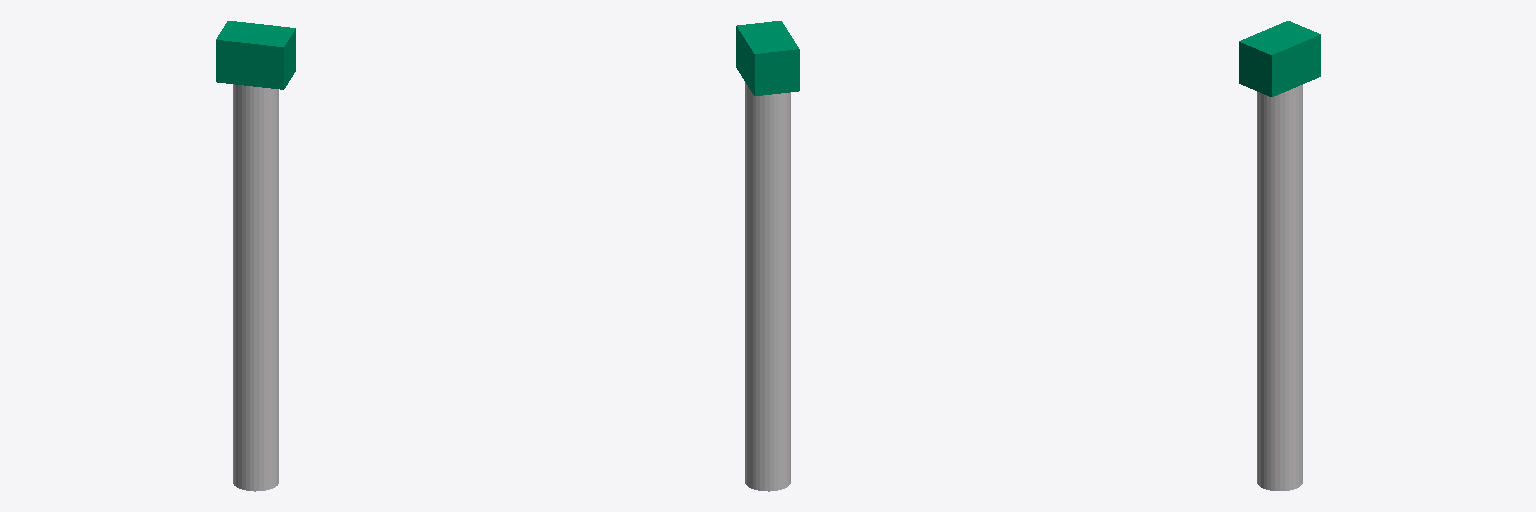
robot.urdf — camera_right:
<?xml version="1.0" encoding="utf-8"?>
<robot
  name="camera_right">

  <link name="base_footprint"/>

  <joint name="base_joint" type="fixed">
    <parent link="base_footprint"/>
    <child link="body" />
    <origin xyz="0 0 0.010" rpy="0 0 0"/>
  </joint>

  <link name="body">
    <inertial>
      <origin
        xyz="0 0 0.5"
        rpy="0 0 0" />
      <mass
        value="1" />
      <inertia
        ixx="0.003958333"
        ixy="0"
        ixz="0"
        iyy="0.003958333"
        iyz="0"
        izz="0.02" />
    </inertial>
    
    <visual>
      <origin
          xyz="0 0 0.5"
          rpy="0 0 0" />
      <geometry>
        <cylinder length="1" radius="0.05"/>
      </geometry>
      <material
        name="">
        <color
          rgba="0.84706 0.83922 0.83922 1" />
      </material>
    </visual>

    <collision>
      <origin
        xyz="0 0 0.5"
        rpy="0 0 0" />
      <geometry>
        <cylinder length="1" radius="0.05"/>
      </geometry>
    </collision>
    </link>


    <joint name="camera_joint" type="fixed">
        <origin xyz="0 0 1" rpy="0 0 -2.355"/>
        <parent link="body"/>
        <child link="camera_link"/>
    </joint>


    <link name="camera_link">
        <visual>
            <origin xyz="0 0 0" rpy="0 0 0"/>
            <geometry>
                <box size="0.1 0.15 0.1" />
            </geometry>
        </visual>

        <collision>
            <origin xyz="0.003 0.065 0.007" rpy="0 0 0"/>
            <geometry>
                <box size="0.012 0.132 0.020"/>
            </geometry>
        </collision>    
    </link>




    <gazebo reference="body">
        <mu1>1</mu1>
        <mu2>1</mu2>
        <fdir1>1 0 0</fdir1>
        <kp>1e+13</kp>
        <kd>1</kd>
        <maxVel>0</maxVel>
        <minDepth>0.0000001</minDepth>
        <gravity>1</gravity>
        <material>Gazebo/Grey</material>
    </gazebo>

    <gazebo reference="camera_link">
        <sensor type="camera" name="camera2">
        <update_rate>30.0</update_rate>
            <camera name="head">
                <horizontal_fov>1.3962634</horizontal_fov>
                <image>
                <width>1280</width>
                <height>720</height>
                <format>R8G8B8</format>
                </image>
            </camera>        
            <plugin name="camera_controller" filename="libgazebo_ros_camera.so">
                <alwaysOn>true</alwaysOn>
                <updateRate>0.0</updateRate>
                <cameraName>camera_right</cameraName>
                <imageTopicName>image_raw</imageTopicName>
                <cameraInfoTopicName>camera_info</cameraInfoTopicName>
                <frameName>camera_link</frameName>
                <hackBaseline>0.07</hackBaseline>
                <distortionK1>0.0</distortionK1>
                <distortionK2>0.0</distortionK2>
                <distortionK3>0.0</distortionK3>
                <distortionT1>0.0</distortionT1>
                <distortionT2>0.0</distortionT2>
            </plugin>
        </sensor>
    </gazebo>




</robot>

--- What the picture shows (computed from the rendered views, not written in the file) ---
Views: 3 orthographic renders of the robot side by side, from view 1: azimuth 30°, elevation 25°; view 2: azimuth 150°, elevation 25°; view 3: azimuth 270°, elevation 25°.
Robot: camera_right — 3 links, 2 joints (2 fixed); root link base_footprint; default pose: all joints at 0.
Links seen in each view (by area): view 1: body, camera_link; view 2: body, camera_link; view 3: body, camera_link.
Boxes of the visible links, x1,y1,x2,y2 form: body: (233, 84, 278, 491); camera_link: (216, 21, 295, 89); body: (745, 82, 790, 491); camera_link: (736, 21, 799, 95); body: (1257, 85, 1302, 490); camera_link: (1239, 21, 1320, 96).
Size in the robot's own frame: 0.1768 by 0.1767 by 1.05 metres.
Geometry: primitives only (box / cylinder / sphere), no mesh files.